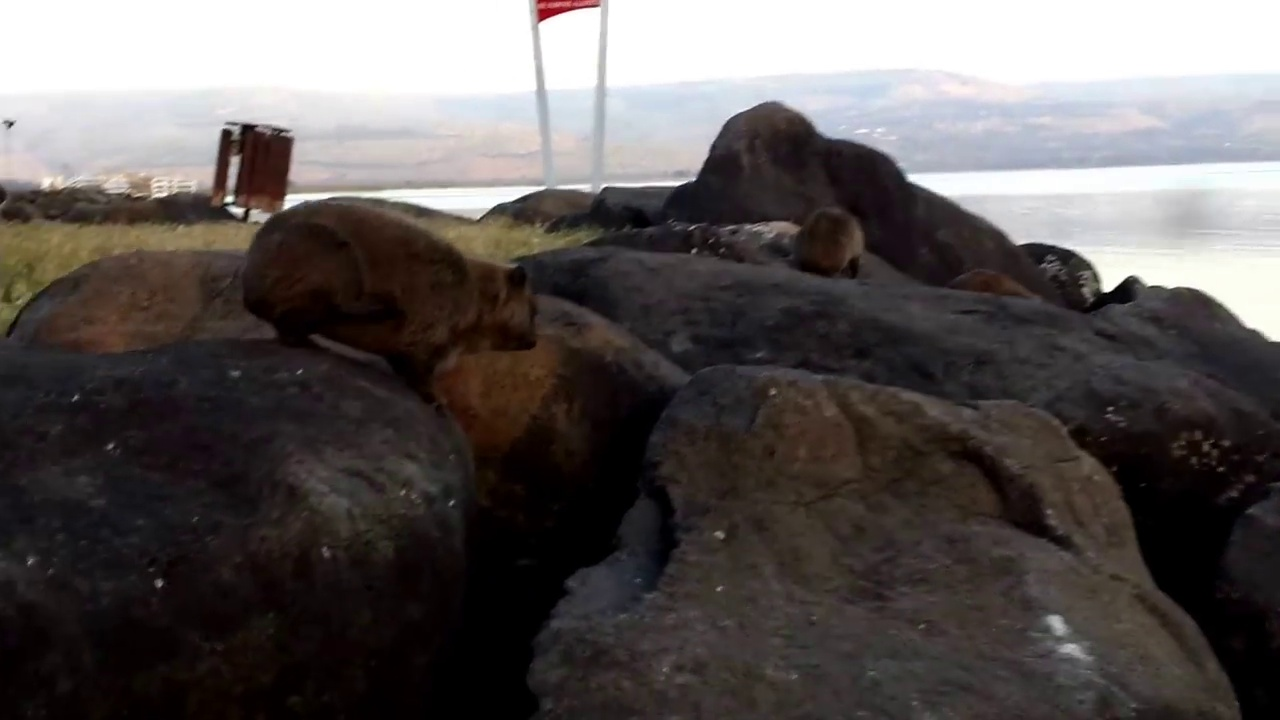Rock Hyrex: (238, 201, 539, 402), (793, 206, 864, 285), (950, 267, 1044, 306)
